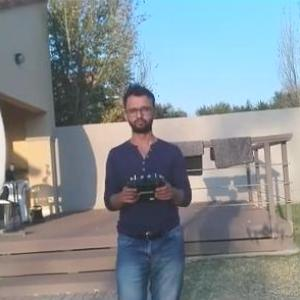follow: (99, 77, 197, 299)
